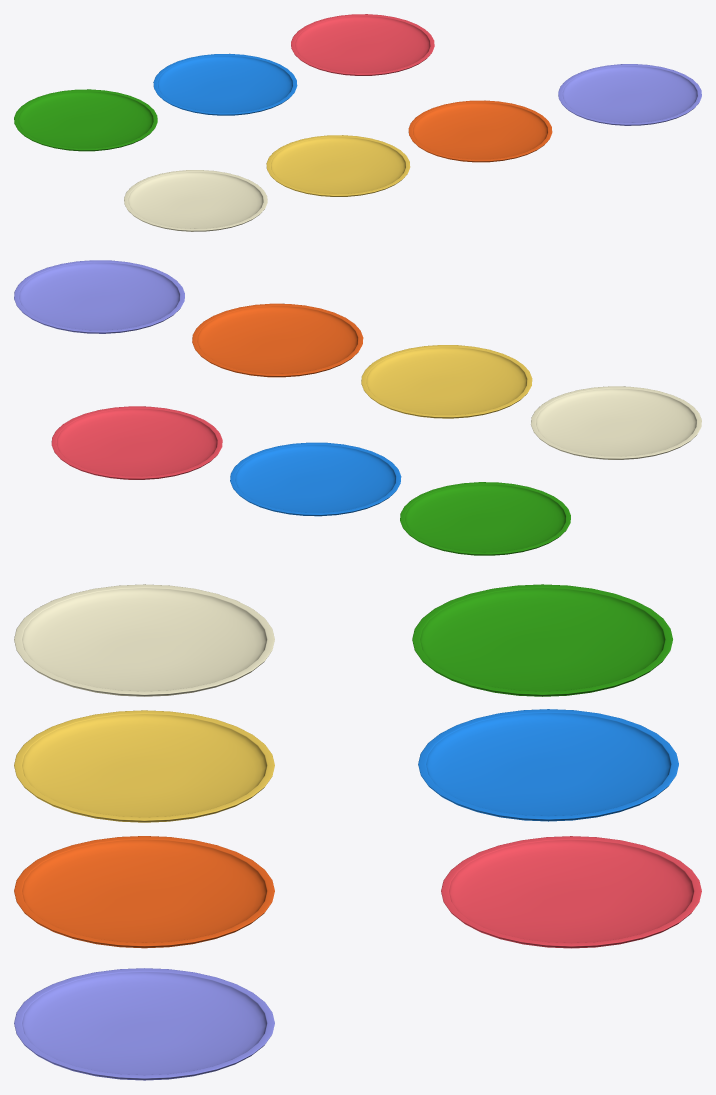
File: _olorplate.fbx
3 views of the same model, one above another, from view 1: azimuth 30°, elevation 25°; view 2: azimuth 150°, elevation 25°; view 3: azimuth 270°, elevation 25° (orthographic). The views are drawn at different scales.
Visible parts, largest first — view 1: archmodels76_014_04.004, archmodels76_014_04.002, archmodels76_014_04.005, archmodels76_014_04.006, archmodels76_014_04.001, archmodels76_014_04, archmodels76_014_04.003; view 2: archmodels76_014_04.002, archmodels76_014_04, archmodels76_014_04.003, archmodels76_014_04.004, archmodels76_014_04.005, archmodels76_014_04.001, archmodels76_014_04.006; view 3: archmodels76_014_04.003, archmodels76_014_04.006, archmodels76_014_04.005, archmodels76_014_04.002, archmodels76_014_04.004, archmodels76_014_04, archmodels76_014_04.001.
Part boxes in pixels (<box>): archmodels76_014_04.004: <box>14,89,157,151</box>; archmodels76_014_04.002: <box>408,100,552,162</box>; archmodels76_014_04.005: <box>153,53,297,115</box>; archmodels76_014_04.006: <box>291,14,434,75</box>; archmodels76_014_04.001: <box>266,135,410,196</box>; archmodels76_014_04: <box>124,170,267,231</box>; archmodels76_014_04.003: <box>558,64,701,125</box>; archmodels76_014_04.002: <box>192,303,363,377</box>; archmodels76_014_04: <box>531,386,701,459</box>; archmodels76_014_04.003: <box>14,260,184,333</box>; archmodels76_014_04.004: <box>400,482,570,555</box>; archmodels76_014_04.005: <box>230,442,401,516</box>; archmodels76_014_04.001: <box>361,345,532,418</box>; archmodels76_014_04.006: <box>51,406,222,479</box>; archmodels76_014_04.003: <box>14,968,274,1080</box>; archmodels76_014_04.006: <box>441,836,701,948</box>; archmodels76_014_04.005: <box>418,709,678,821</box>; archmodels76_014_04.002: <box>14,836,274,948</box>; archmodels76_014_04.004: <box>412,584,672,696</box>; archmodels76_014_04: <box>14,584,274,696</box>; archmodels76_014_04.001: <box>14,710,274,822</box>.
Bounding box in the file's own units: 1198 × 26.21 × 705.
